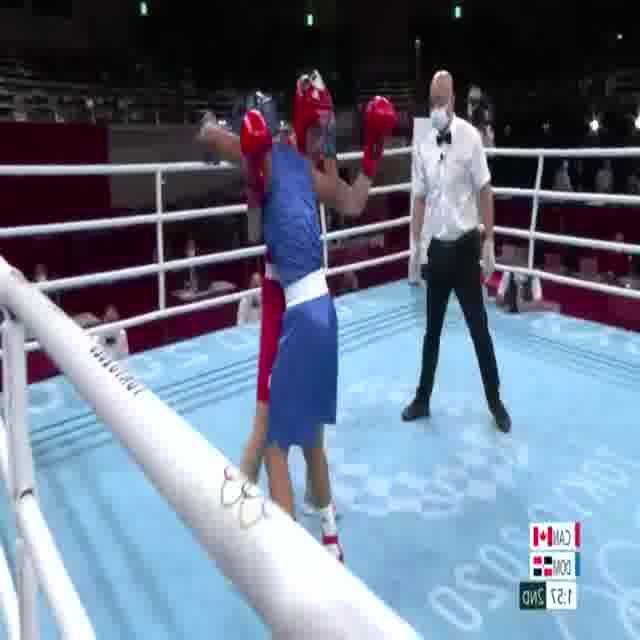blue-player: (194, 88, 342, 568)
red-player: (221, 64, 402, 549)
referee: (399, 67, 515, 435)
